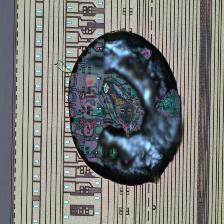PARTICLE: (65, 28, 191, 190)
